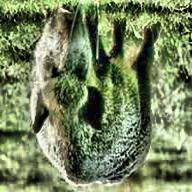boar: (30, 1, 174, 189)
